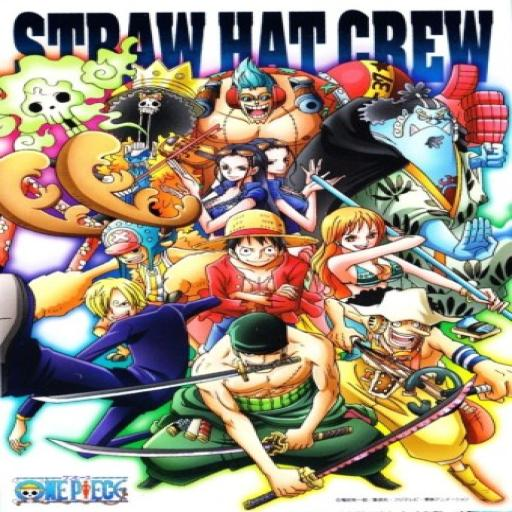Luffy: (188, 207, 316, 274)
Nami: (315, 208, 411, 260)
NicoRobin: (206, 138, 272, 197), (252, 136, 305, 187)
Usopp: (343, 288, 463, 358)
Zoro: (218, 311, 310, 381)
sanji: (72, 274, 156, 332)
